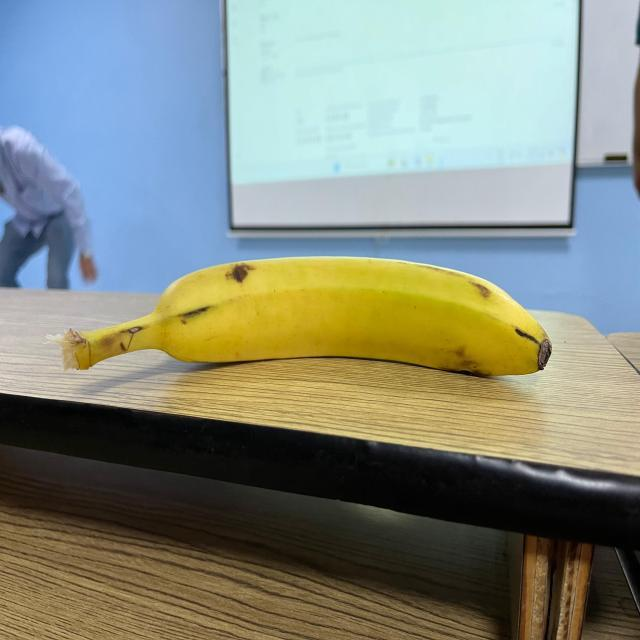Pisang: (55, 253, 554, 383)
